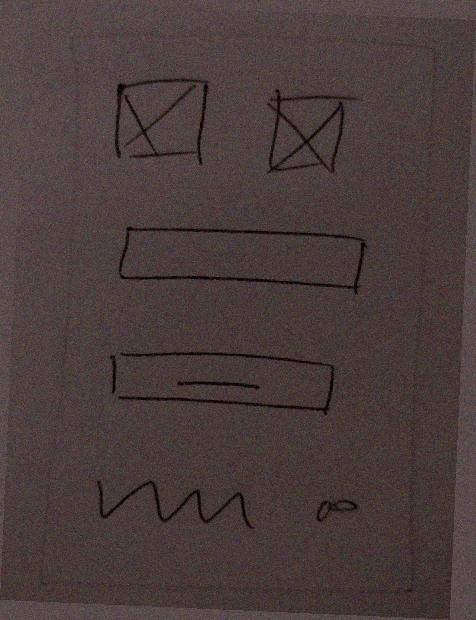button: (97, 338, 344, 426)
image: (103, 68, 216, 174), (257, 84, 363, 183)
switch: (304, 483, 372, 535)
text: (82, 458, 266, 544)
text_input: (107, 215, 373, 306)
